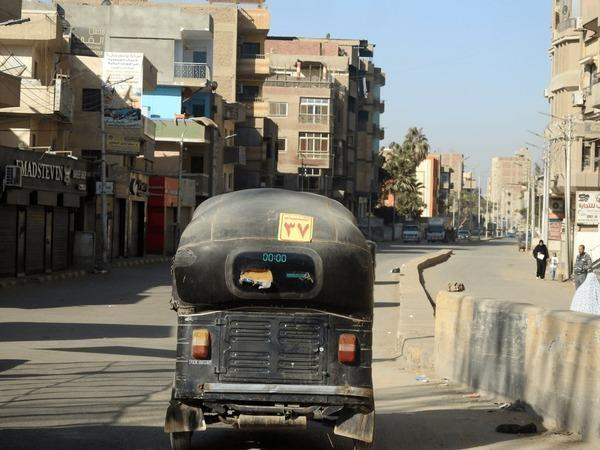keke: (161, 185, 383, 448)
